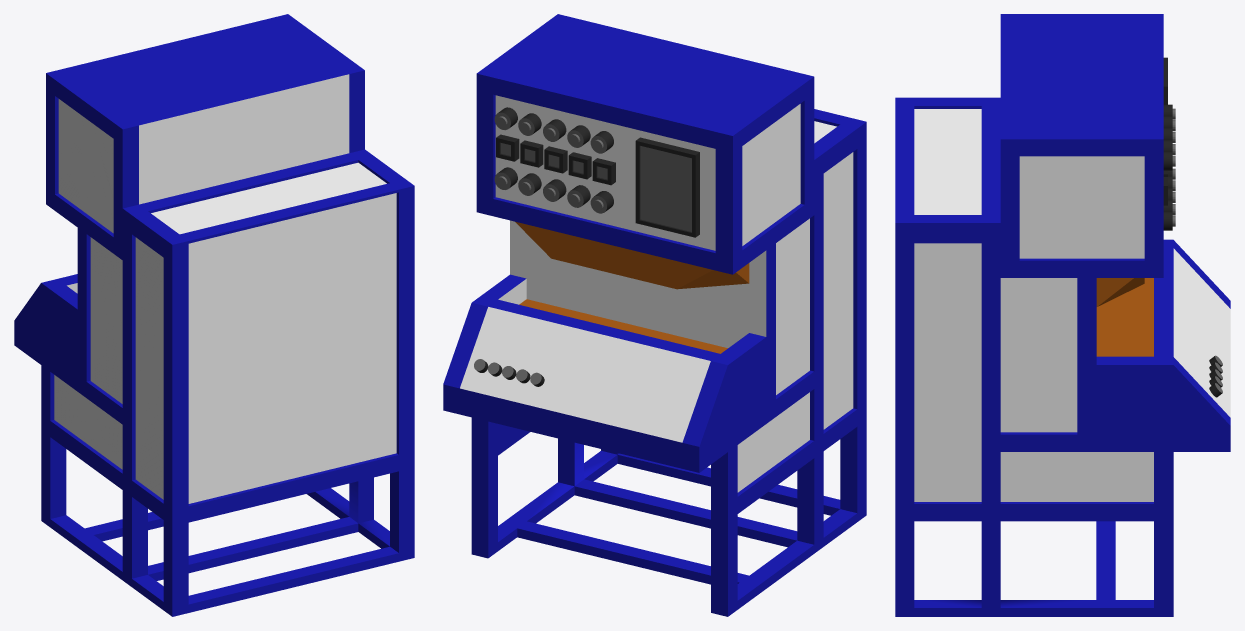
File: MaquinaPesada.fbx
3 views of the same model, side by side, from view 1: azimuth 30°, elevation 25°; view 2: azimuth 150°, elevation 25°; view 3: azimuth 270°, elevation 25° (orthographic). The views are drawn at different scales.
Visible parts, largest first — view 1: Box232; view 2: Box232; view 3: Box232.
Boxes of the visible parts, bbox=[...] form: Box232: bbox=[14, 14, 414, 616]; Box232: bbox=[443, 14, 866, 616]; Box232: bbox=[895, 14, 1230, 616].
Bounding box in the file's own units: 142 × 252 × 160.
